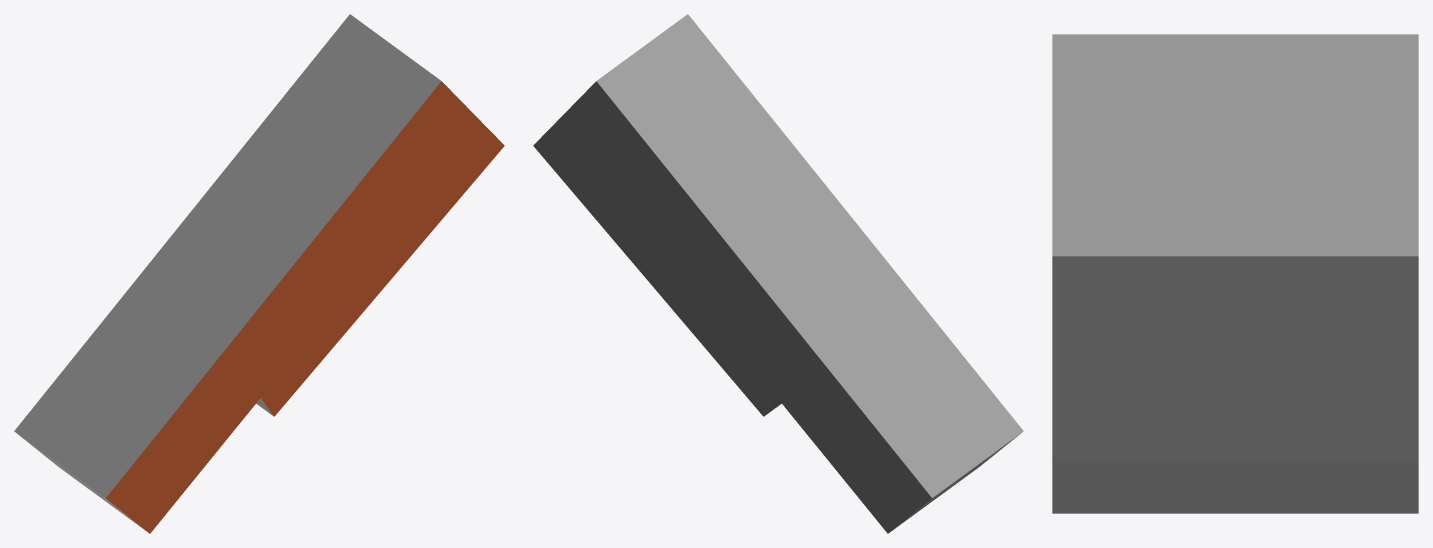
The model's file is construction_4117_assumed_A_Casa_h6m.obj.
3 views of the same model, side by side, from view 1: azimuth 30°, elevation 25°; view 2: azimuth 150°, elevation 25°; view 3: azimuth 270°, elevation 25° (orthographic). The views are drawn at different scales.
Visible parts, largest first — view 1: construction_4117_assumed_A_Casa; view 2: construction_4117_assumed_A_Casa; view 3: construction_4117_assumed_A_Casa.
Boxes of the visible parts, box(x1,y1,x2,y2) form: construction_4117_assumed_A_Casa: box(14, 14, 504, 533); construction_4117_assumed_A_Casa: box(533, 14, 1023, 533); construction_4117_assumed_A_Casa: box(1052, 34, 1418, 513).
Bounding box in the file's own units: 15.09 × 13.8 × 6.
